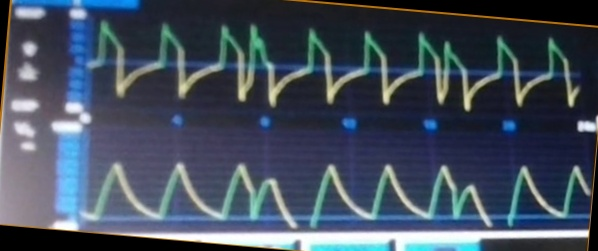Double_Triggering Flow: (94, 19, 576, 111)
Double_Triggering Volume: (90, 155, 584, 226)
